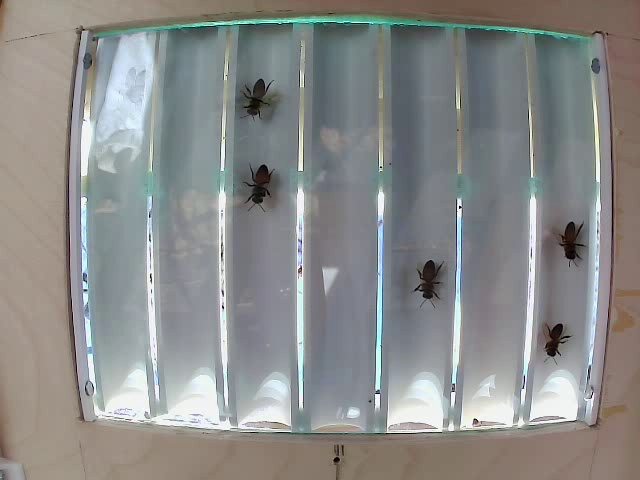bee: (411, 256, 455, 304), (244, 68, 277, 129), (242, 171, 282, 212), (533, 309, 567, 356), (556, 208, 585, 252)
